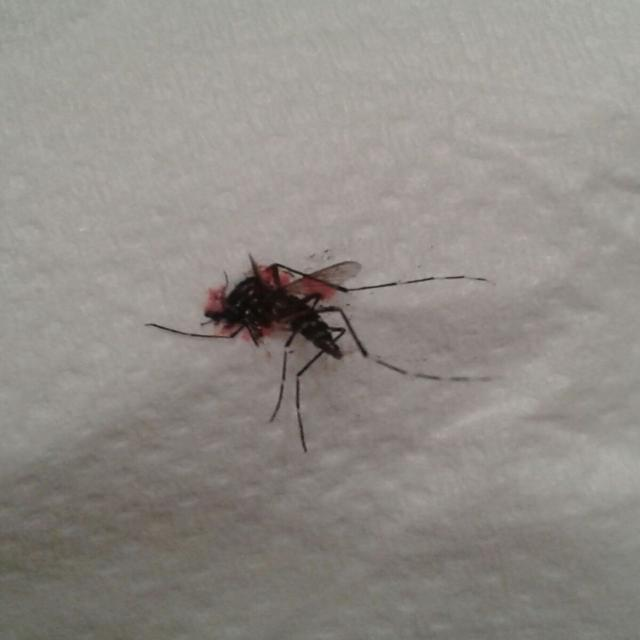albopictus: (140, 220, 492, 459)
